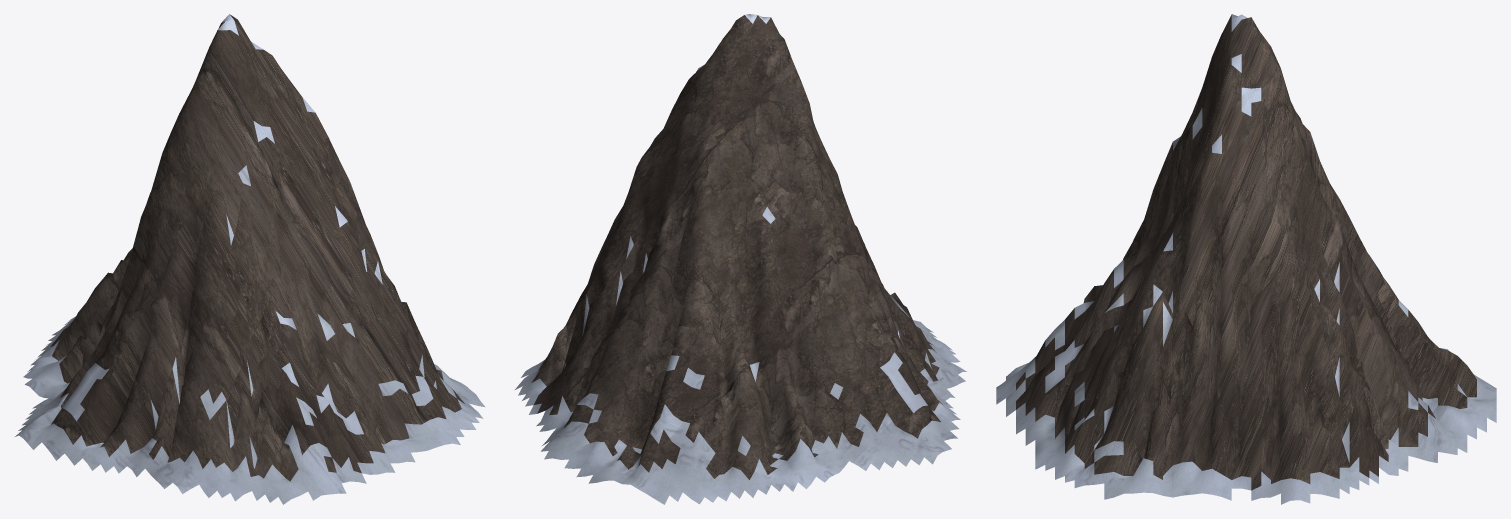
File: border_peak_a_v5_winter.glb
3 renders of one model, left to right at view 1: azimuth 30°, elevation 25°; view 2: azimuth 150°, elevation 25°; view 3: azimuth 270°, elevation 25°, orthographic.
Parts seen in each view (by area): view 1: border_peak_a; view 2: border_peak_a; view 3: border_peak_a.
Boxes of the visible parts, x1=… form: border_peak_a: x1=15, y1=14, x2=485, y2=504; border_peak_a: x1=515, y1=14, x2=966, y2=504; border_peak_a: x1=996, y1=14, x2=1496, y2=504.
Size of the model in its own units: 0.94 by 0.8827 by 1.02.
2 materials, 2 textured.
